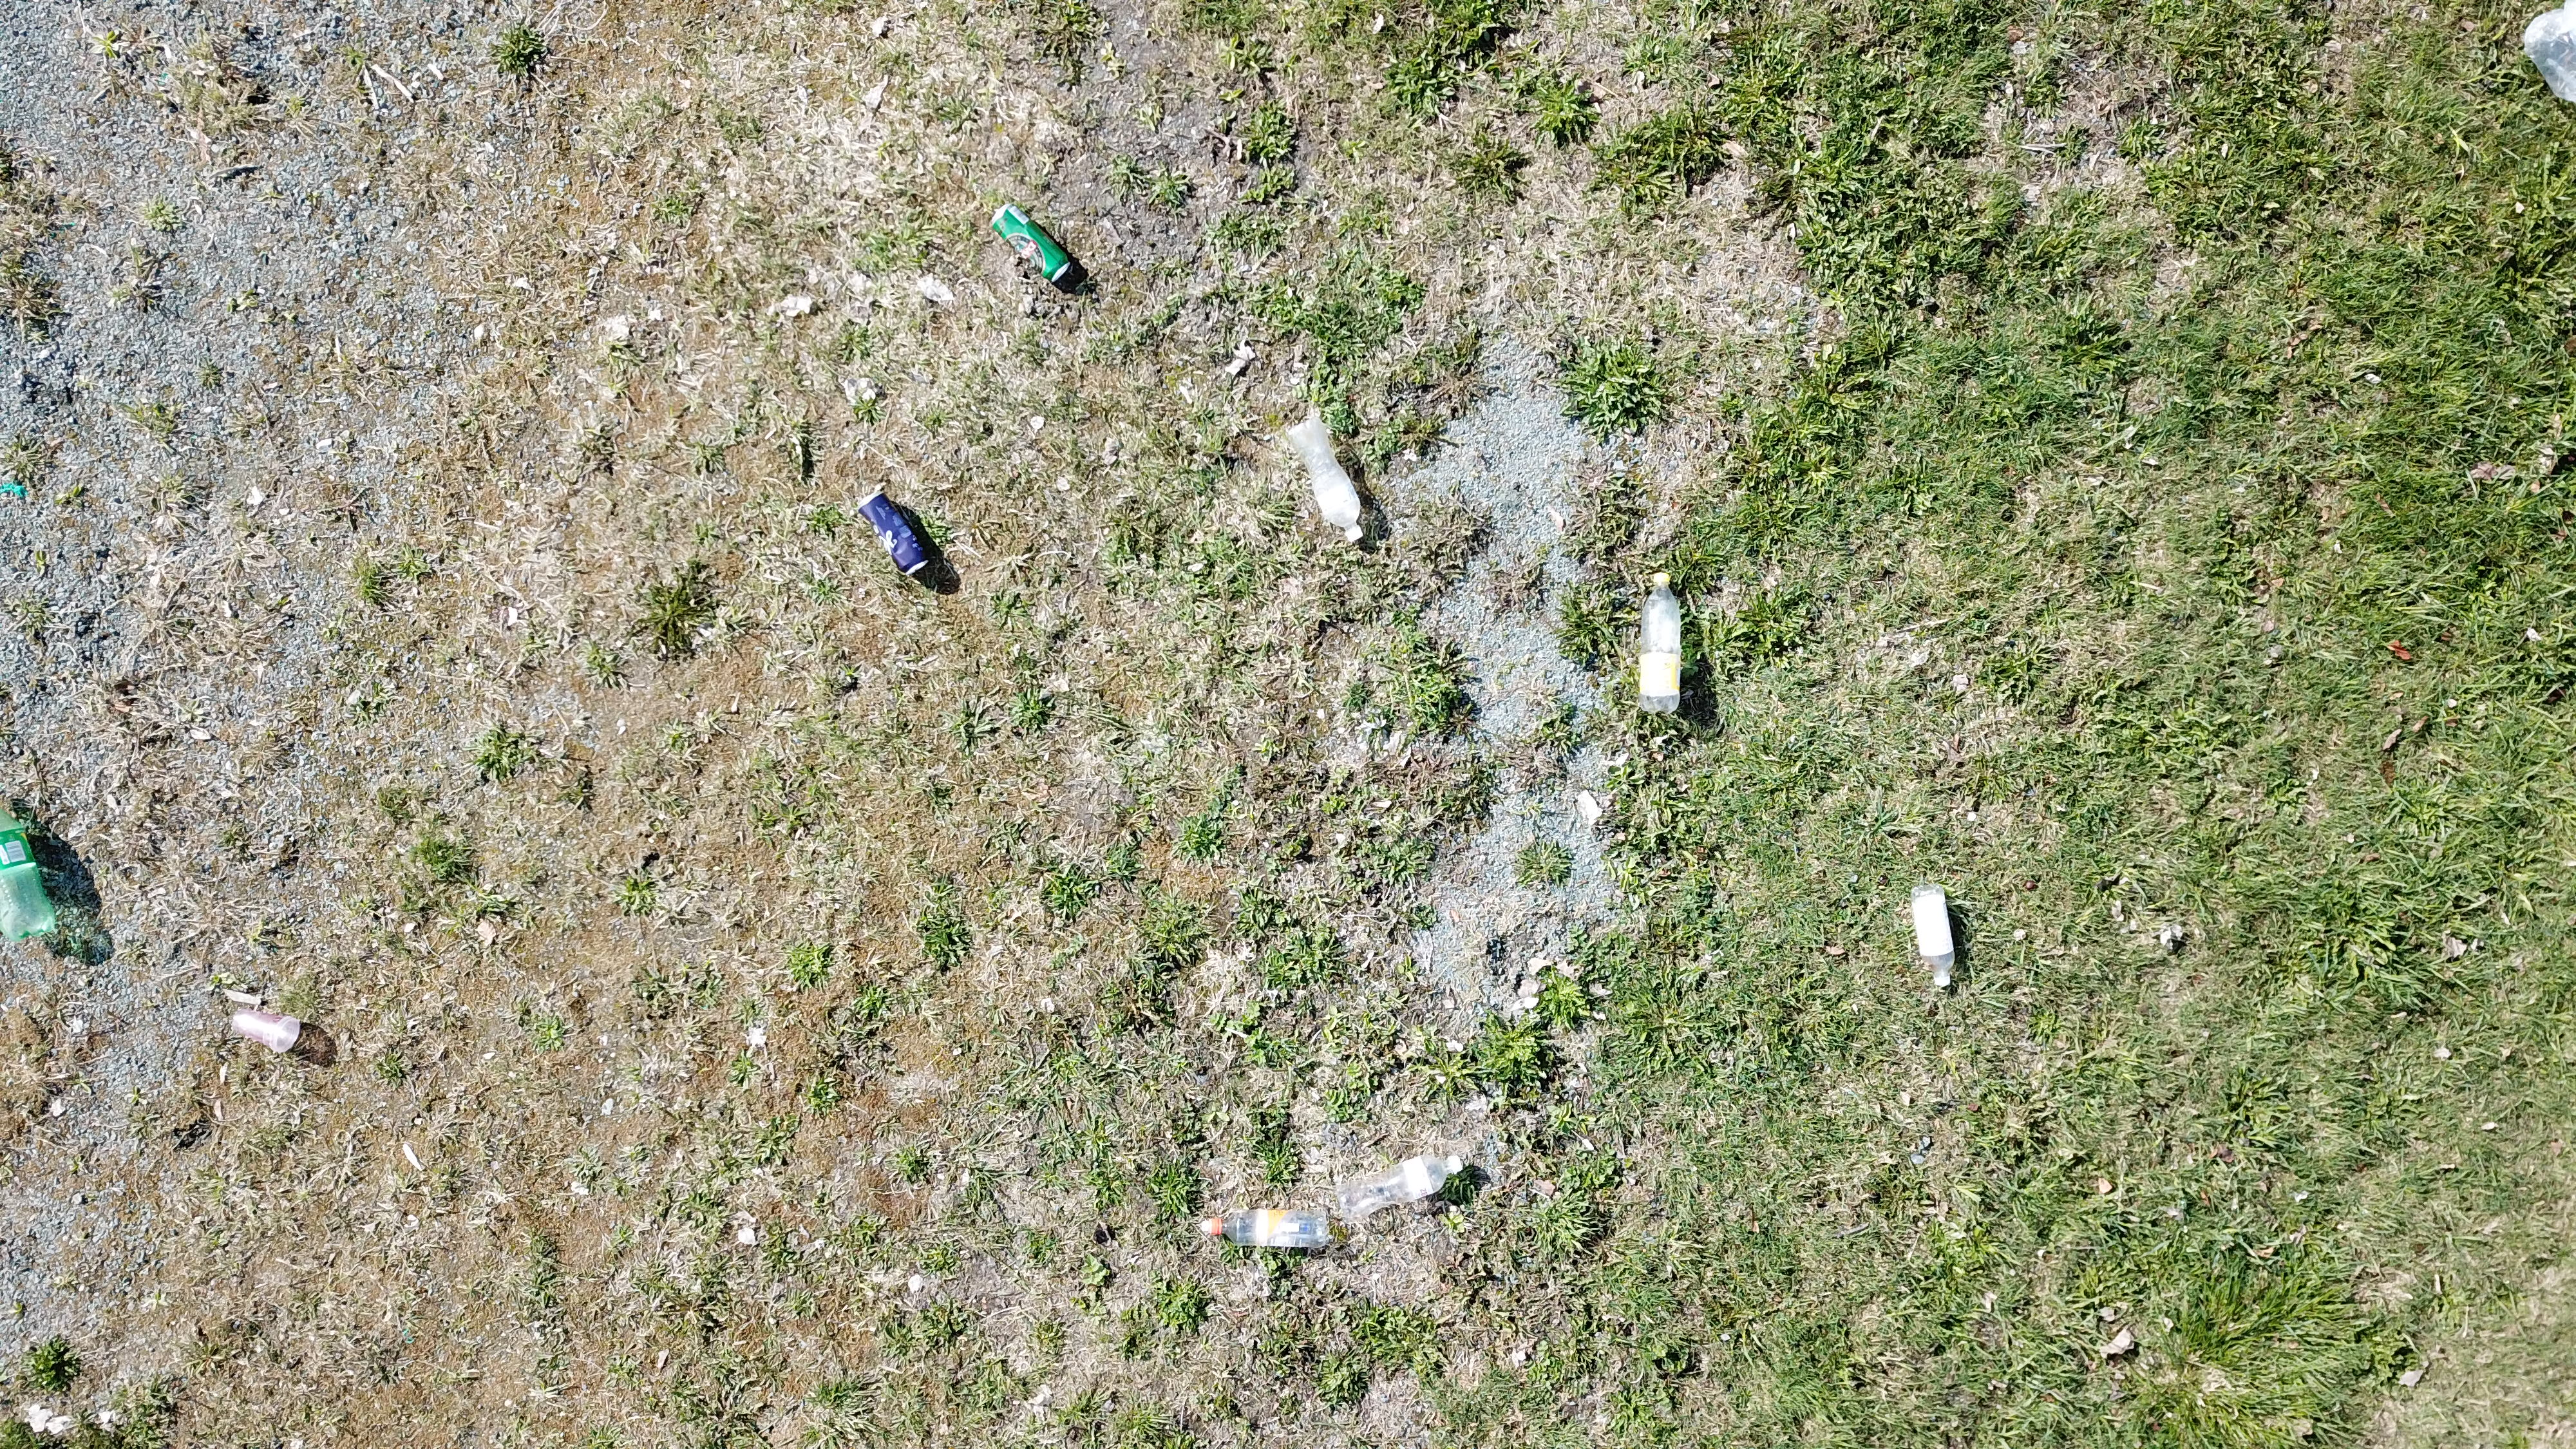Can: (991, 203, 1072, 285), (856, 488, 929, 575)
Plastic: (234, 1010, 301, 1053)
PlasticBottle: (1279, 414, 1364, 538), (0, 794, 60, 939), (1339, 1152, 1463, 1221), (1638, 571, 1683, 717), (1200, 1207, 1327, 1247), (1913, 886, 1959, 989)
